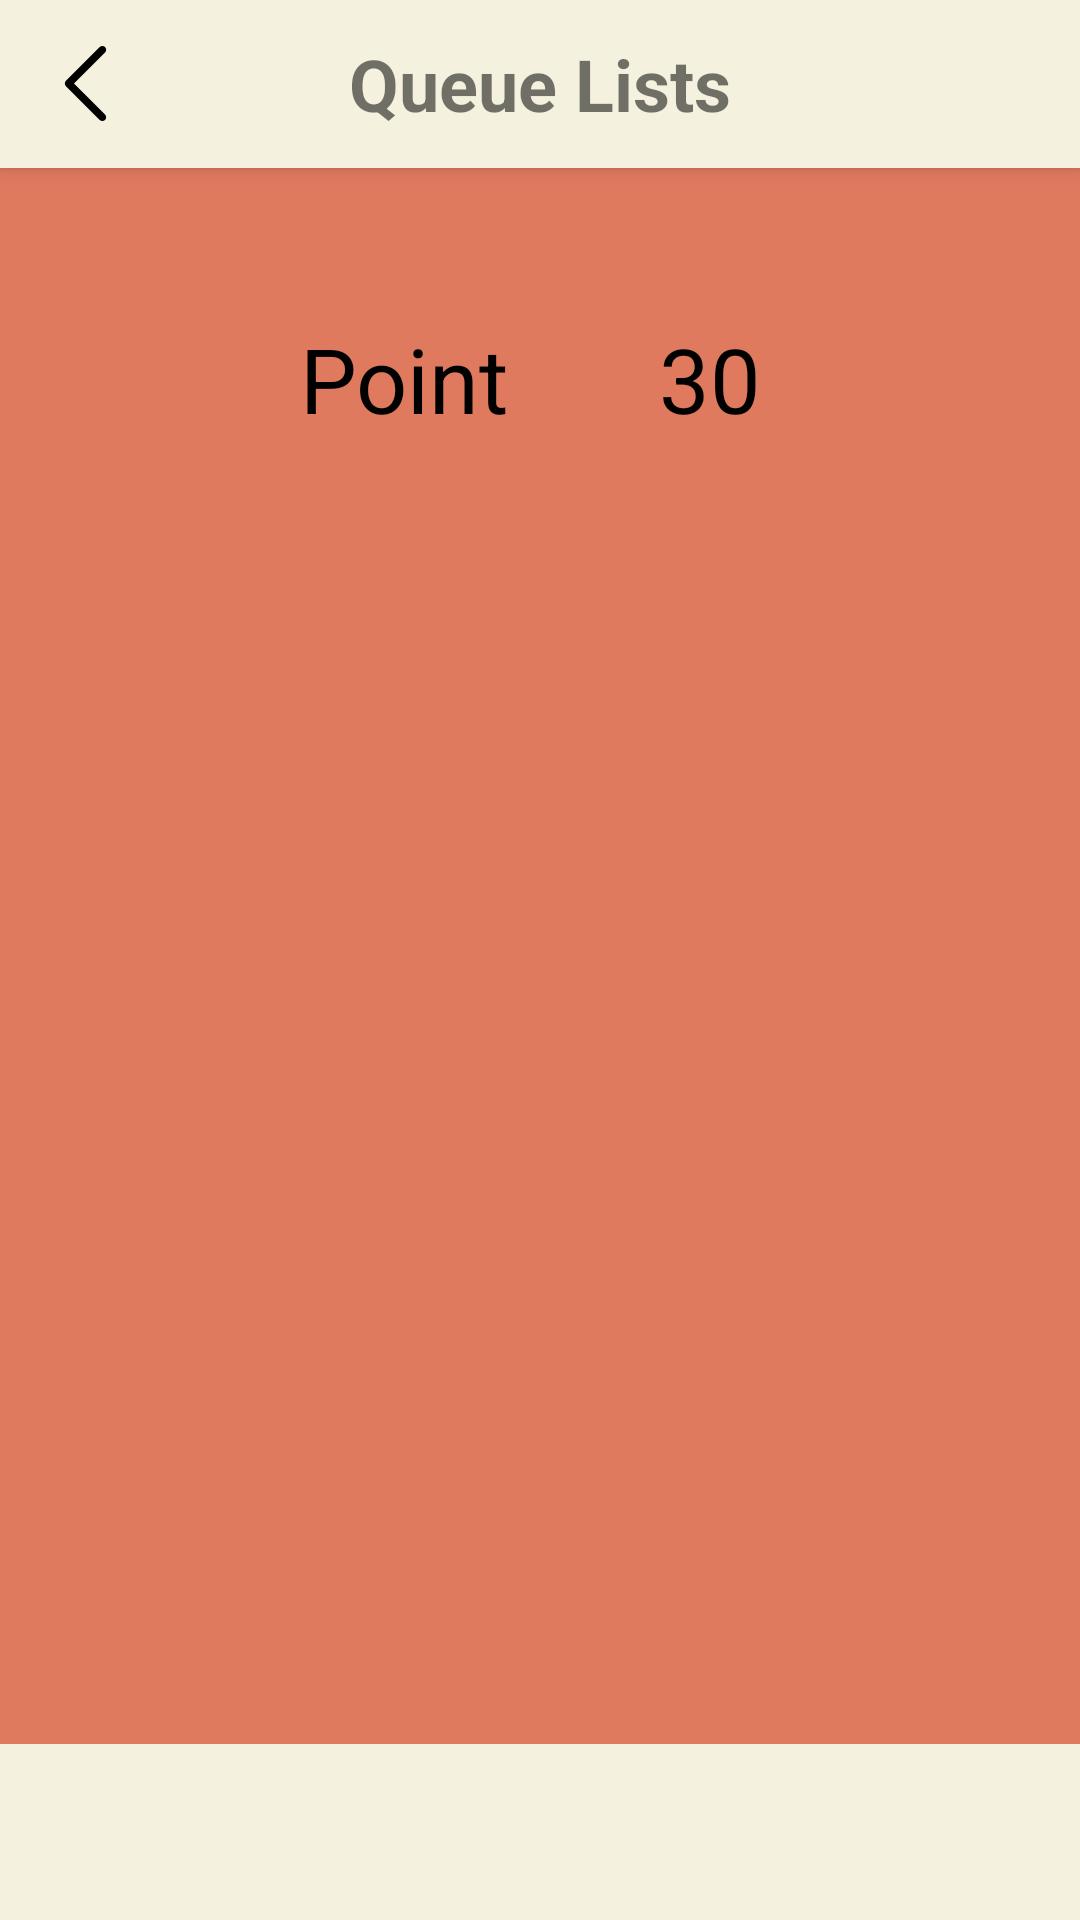

Icon click points for this 1080 x 1920 phone screenshot, format point (x, y):
back: point (85, 83)
